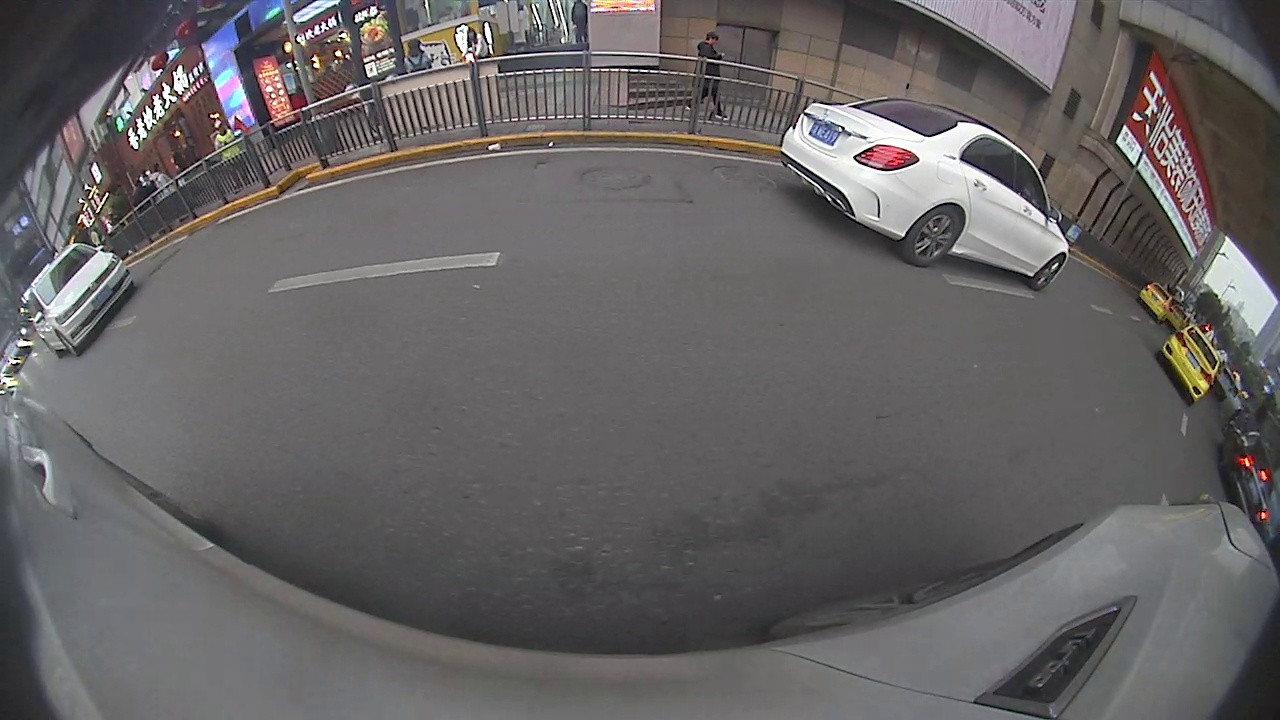car: (776, 95, 1070, 292), (21, 242, 135, 359), (1216, 423, 1274, 524), (1158, 323, 1219, 408), (1135, 277, 1177, 322)
front: (1032, 254, 1065, 293), (55, 332, 78, 359)
rear: (904, 206, 965, 267)
